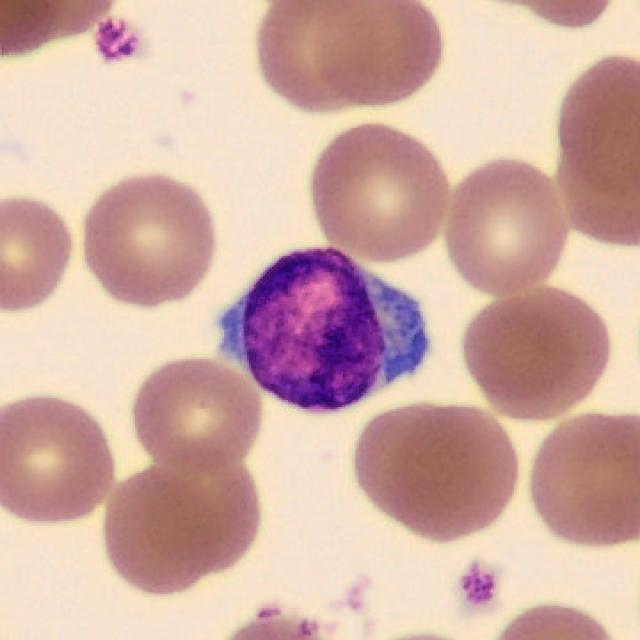Linfocito: (220, 249, 430, 416)
